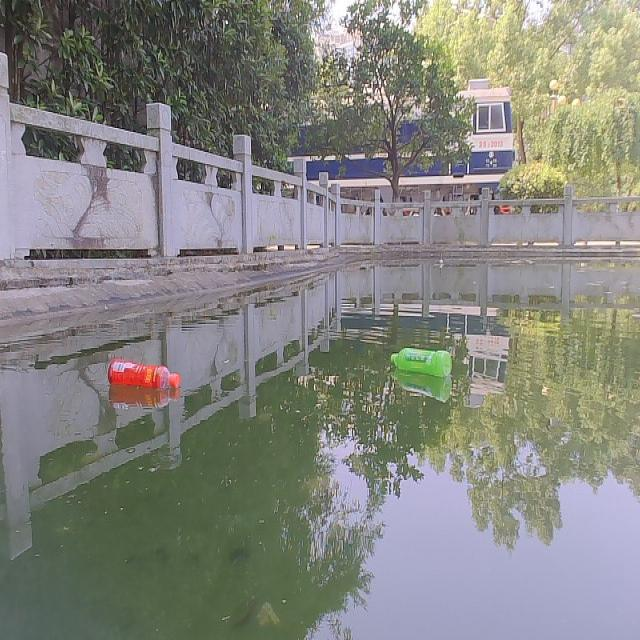Bottle: (106, 355, 179, 388), (389, 344, 451, 375)
